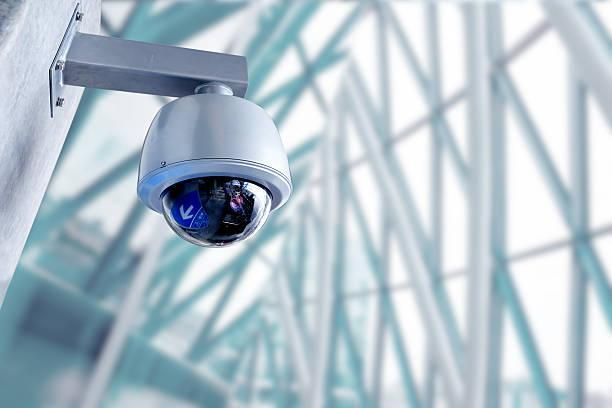camera: (114, 84, 320, 252)
